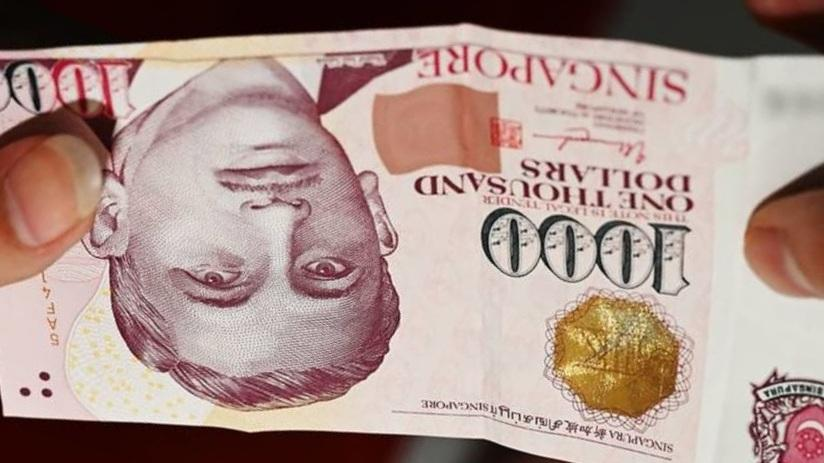1000SingaporeDollar: (0, 51, 824, 463)
